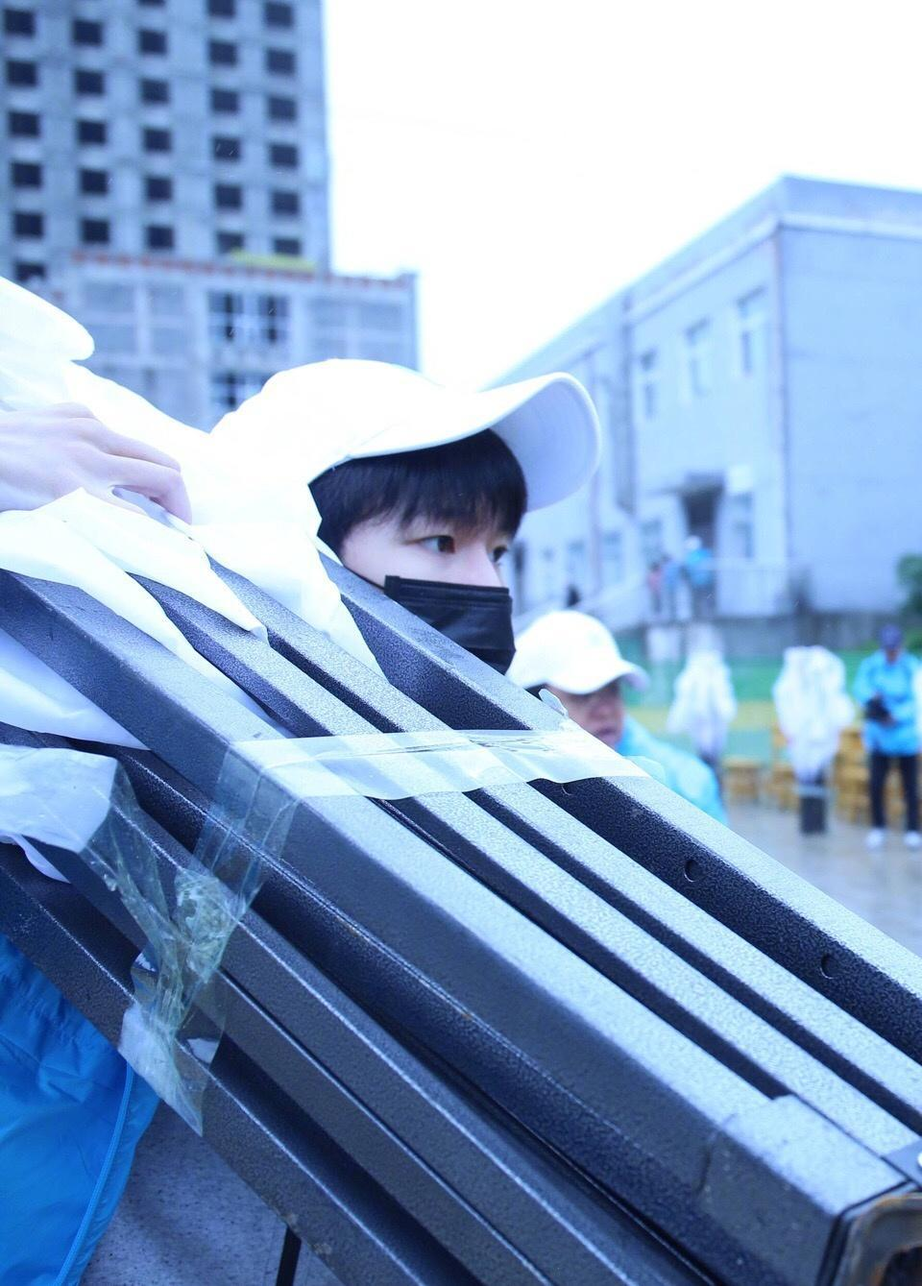NONE: (546, 673, 622, 758)
OK: (314, 458, 543, 687)
